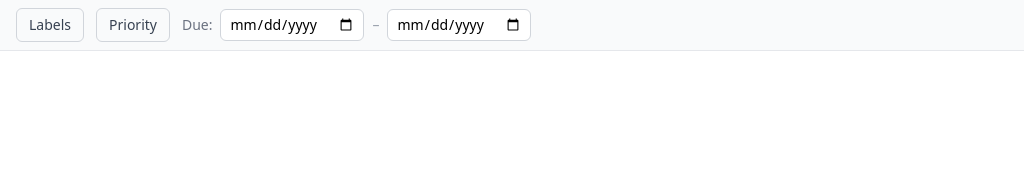
Scenario: FilterBar › opens label dropdown and shows all project labels
This screenshot has width=1024, height=178.
Step 1. Click the button with aria-label "Filter by label" → coordinates (50, 25), box [16,8,84,42]
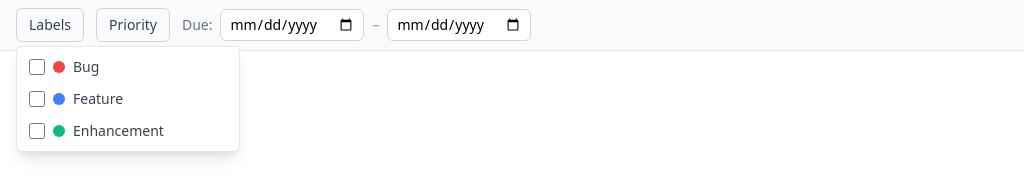
expect the text "Bug" is shown: met, box [73,57,99,77]
expect the text "Feature" is shown: met, box [73,89,123,109]
expect the text "Enhancement" is shown: met, box [73,121,164,141]
